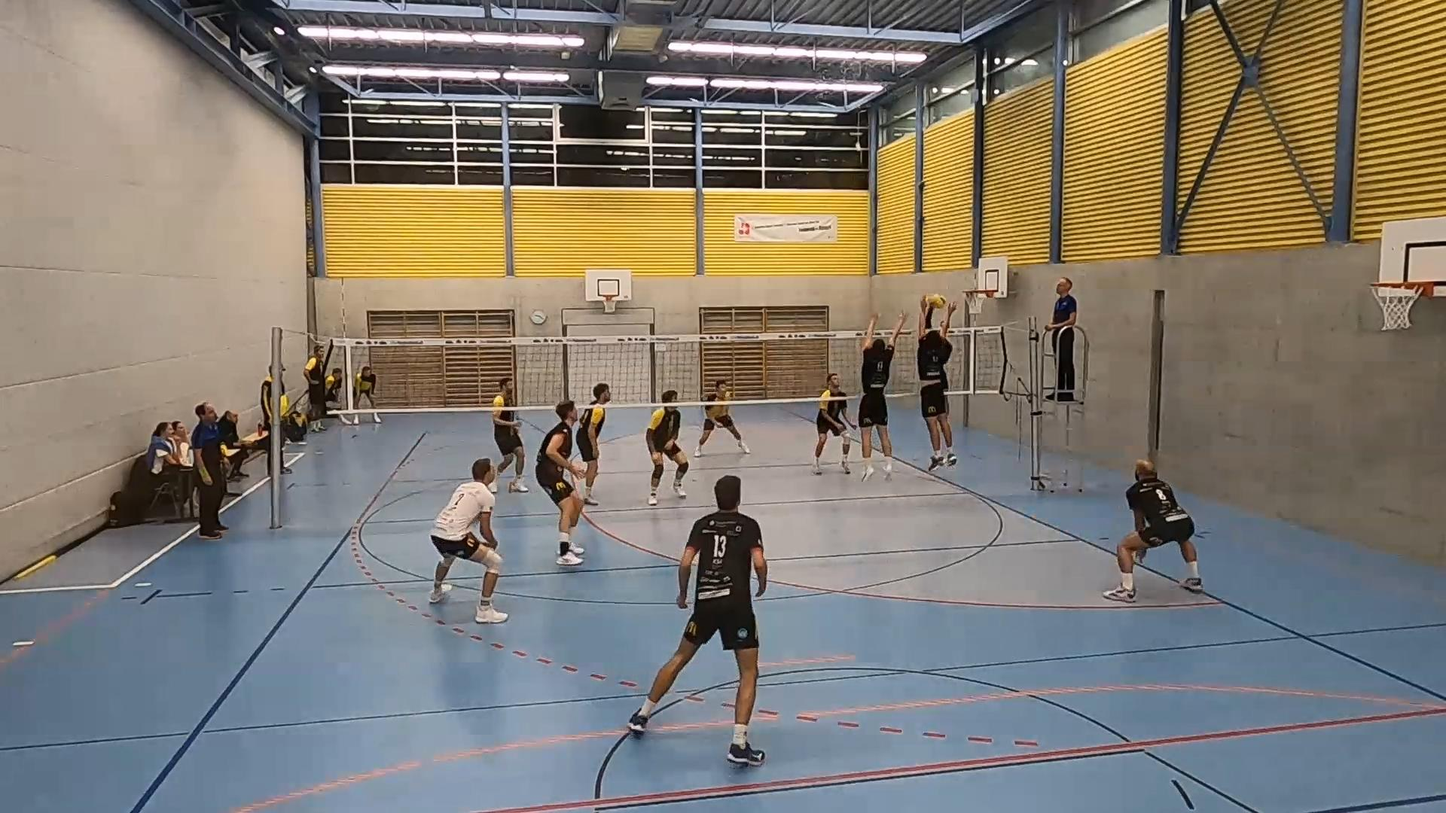Block: (855, 307, 900, 476), (918, 301, 957, 475)
Player: (628, 475, 767, 766), (1103, 460, 1203, 602), (429, 458, 508, 623), (535, 401, 584, 565), (645, 389, 688, 504), (694, 379, 749, 456), (576, 383, 610, 505), (812, 373, 850, 474), (493, 376, 526, 491)
ball: (926, 297, 951, 311)
